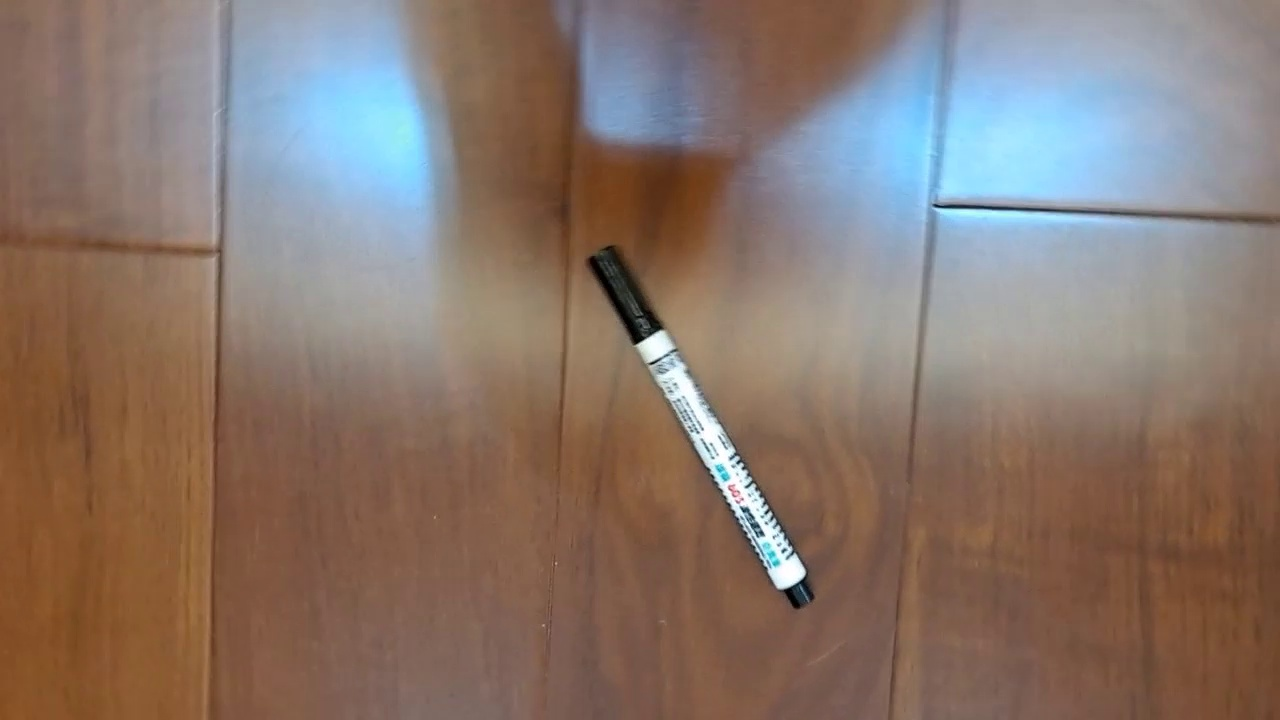pen: (584, 243, 816, 610)
